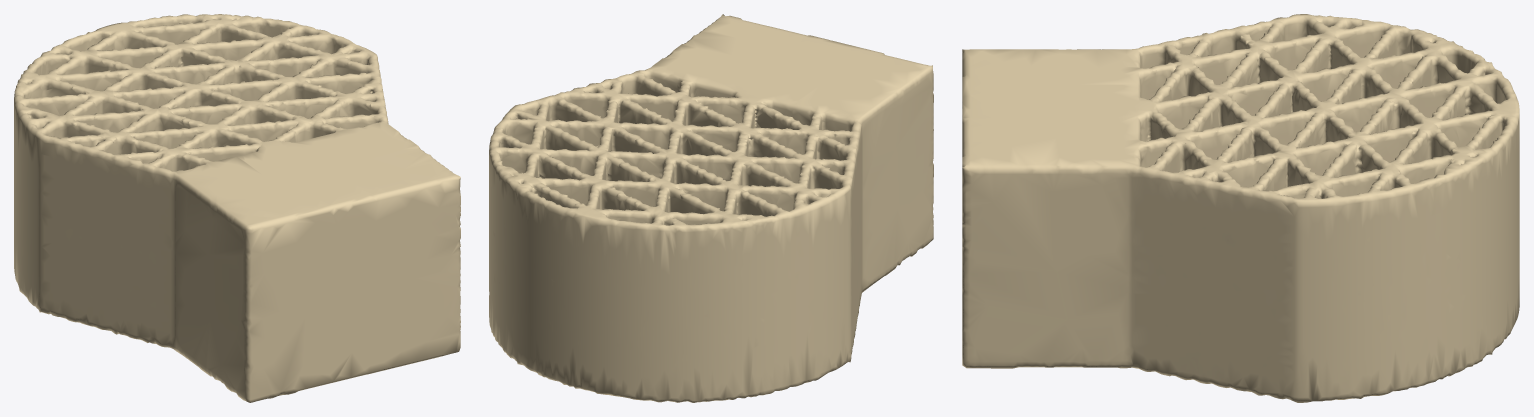
File: ollie-paw-shape-100.glb
3 views of the same model, side by side, from view 1: azimuth 30°, elevation 25°; view 2: azimuth 150°, elevation 25°; view 3: azimuth 270°, elevation 25° (orthographic). The views are drawn at different scales.
Parts seen in each view (by area): view 1: world; view 2: world; view 3: world.
Boxes of the visible parts, bbox=[...] form: world: bbox=[14, 14, 460, 402]; world: bbox=[489, 14, 933, 402]; world: bbox=[962, 14, 1519, 402].
Bounding box in the file's own units: 40 × 20.01 × 50.
